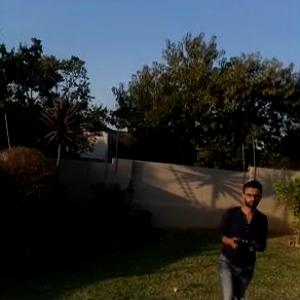follow: (216, 176, 273, 299)
